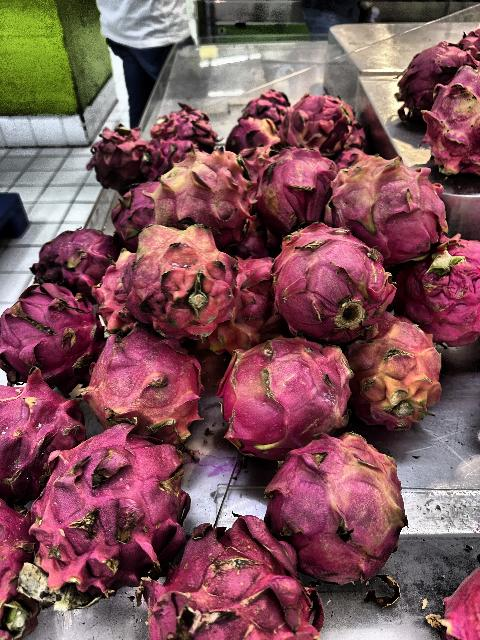buah-naga-belum-matang: (268, 434, 398, 576), (117, 226, 245, 336), (331, 154, 435, 262), (150, 144, 252, 242), (350, 320, 441, 422), (93, 252, 134, 332), (223, 115, 281, 154)
buah-naga-matang: (43, 428, 187, 590), (160, 514, 318, 640), (213, 328, 353, 447), (272, 225, 390, 332), (0, 279, 102, 383), (90, 336, 194, 432), (0, 377, 86, 489), (410, 234, 480, 342), (396, 38, 474, 116), (257, 150, 333, 230), (428, 70, 480, 174), (33, 225, 117, 282), (282, 94, 360, 150), (147, 102, 218, 152), (88, 122, 138, 188), (103, 182, 158, 238), (243, 90, 290, 120), (138, 142, 184, 170)
